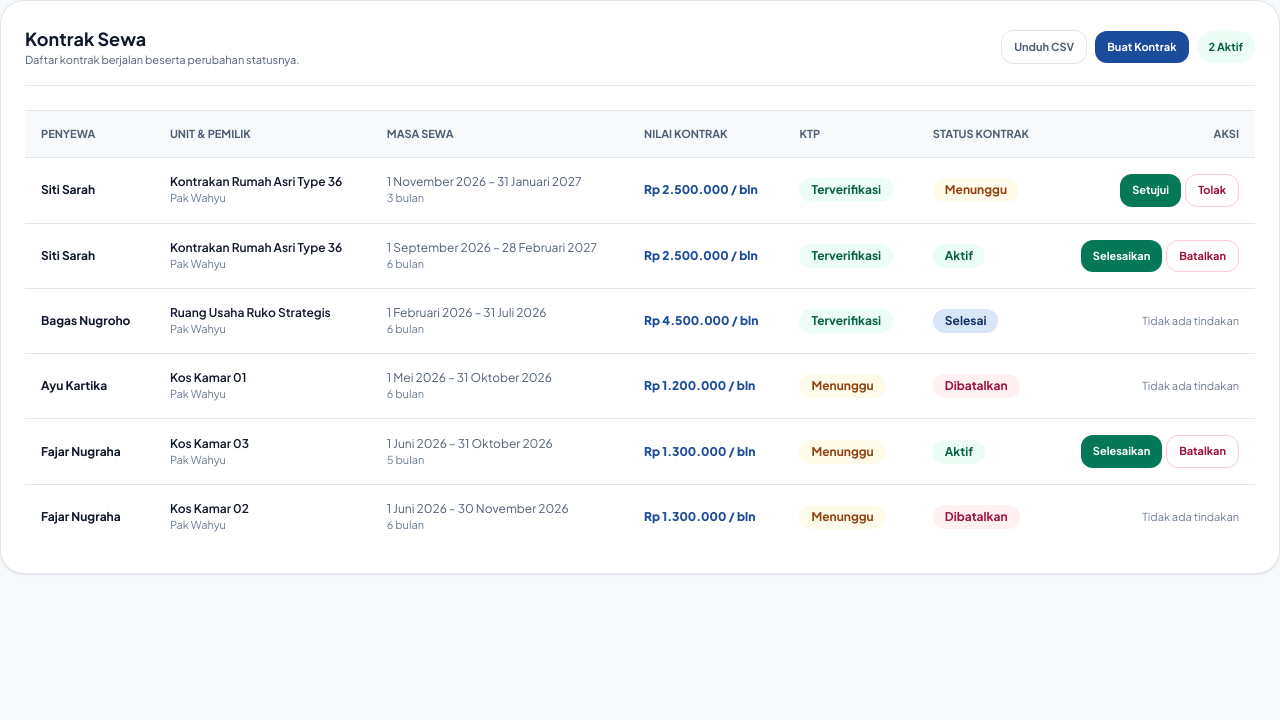
Test: OwnerContractsPage › kontrak baru tampil sebagai Menunggu
Click the button "Buat Kontrak".
click(1142, 47)  # box [1095,30,1188,63]
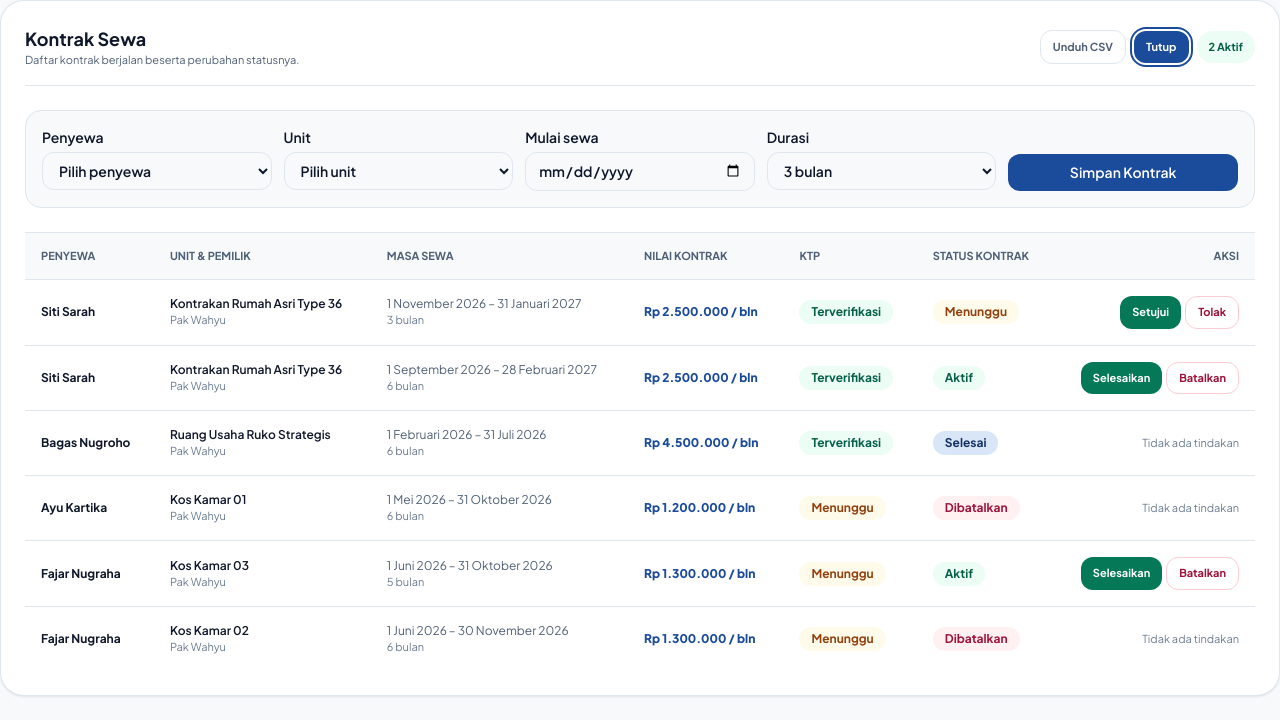
Select "Rian Pratama" in the dropdown labelled "Penyewa" at (157, 170), box [42,152,272,190]
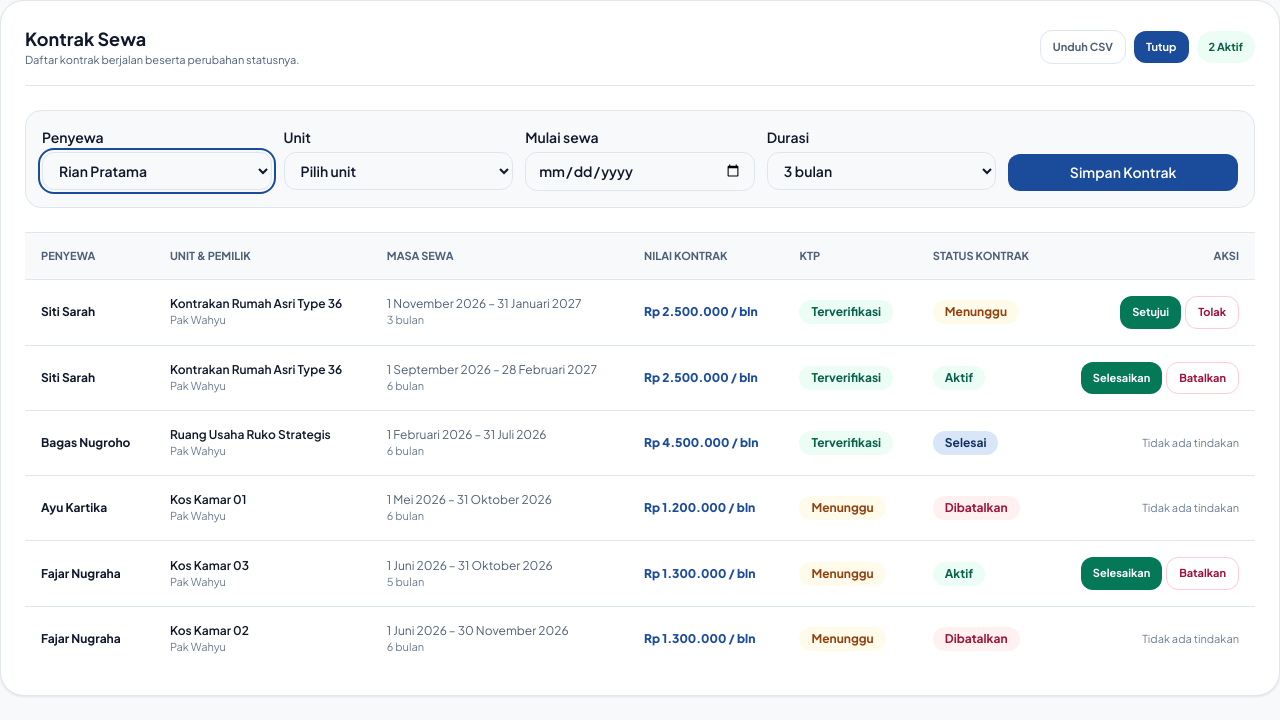
Select "Kos Kamar 01" in the dropdown labelled "Unit" at (398, 170), box [284,152,513,190]
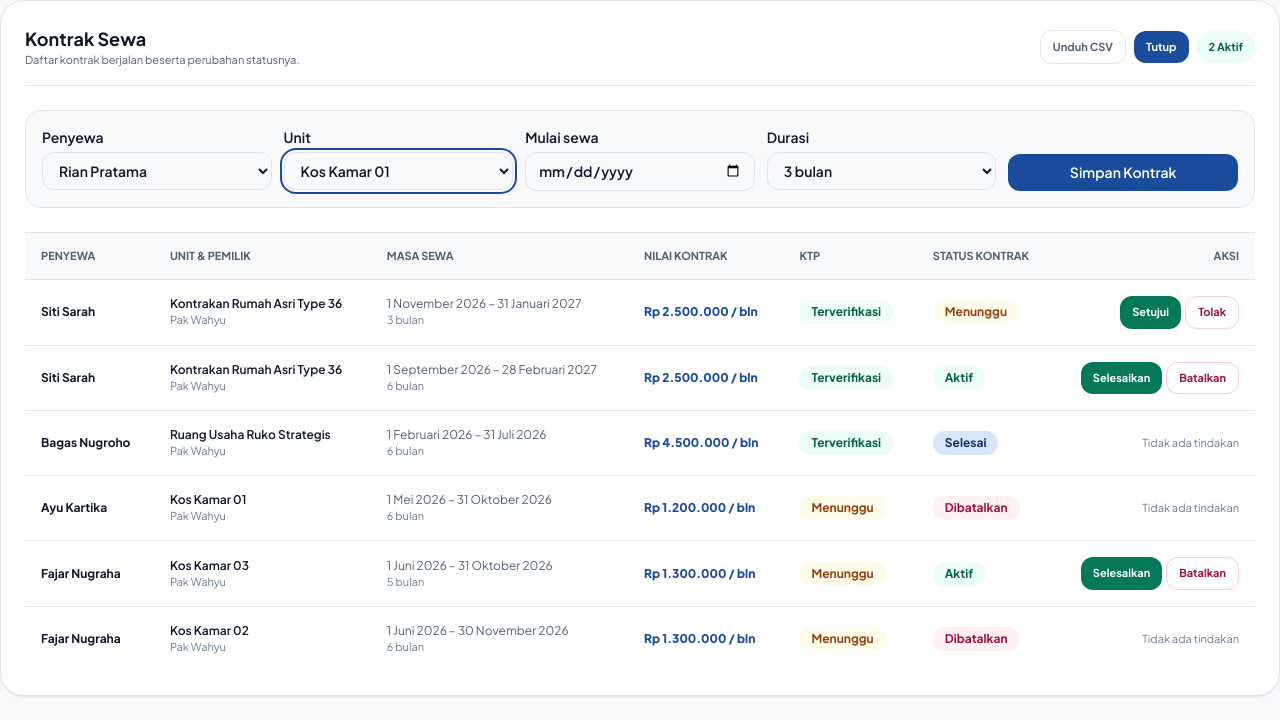
Type "2026-11-01" into the date field labelled "Mulai sewa".
click(640, 171); type("2026-11-01")  # box [525,152,755,190]
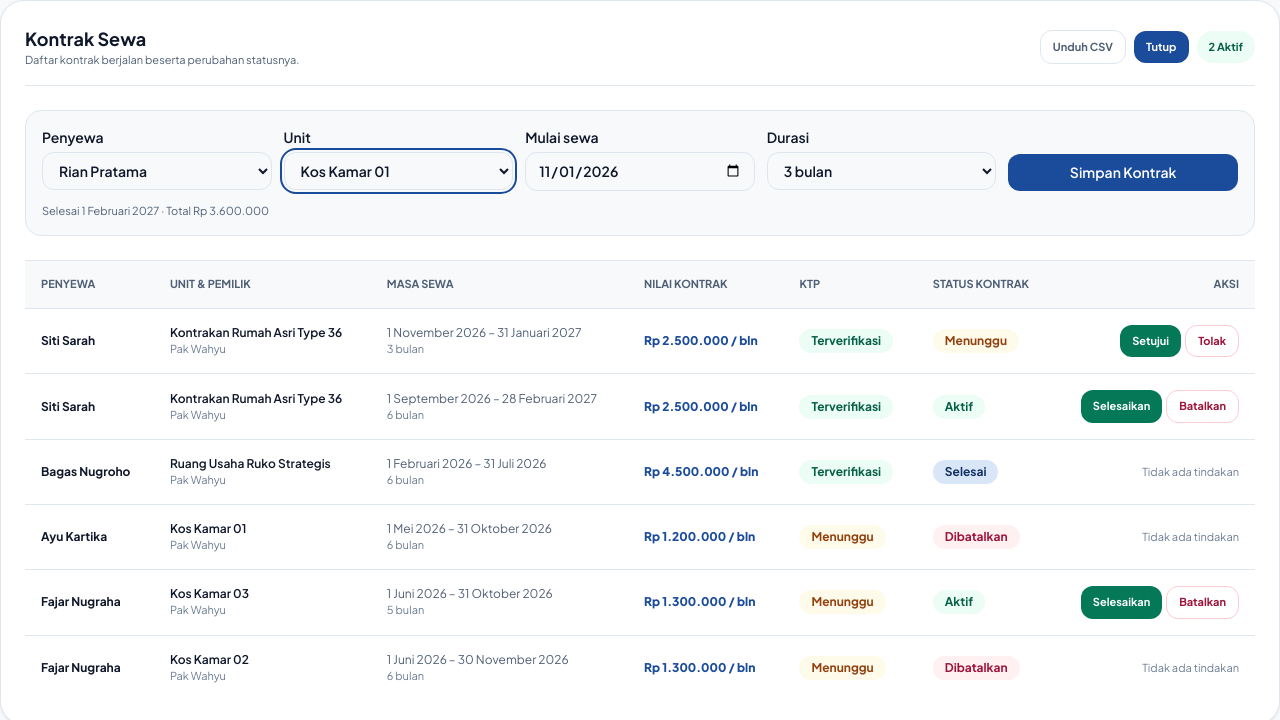
Click the button "Simpan Kontrak".
click(1123, 172)  # box [1008,154,1238,190]
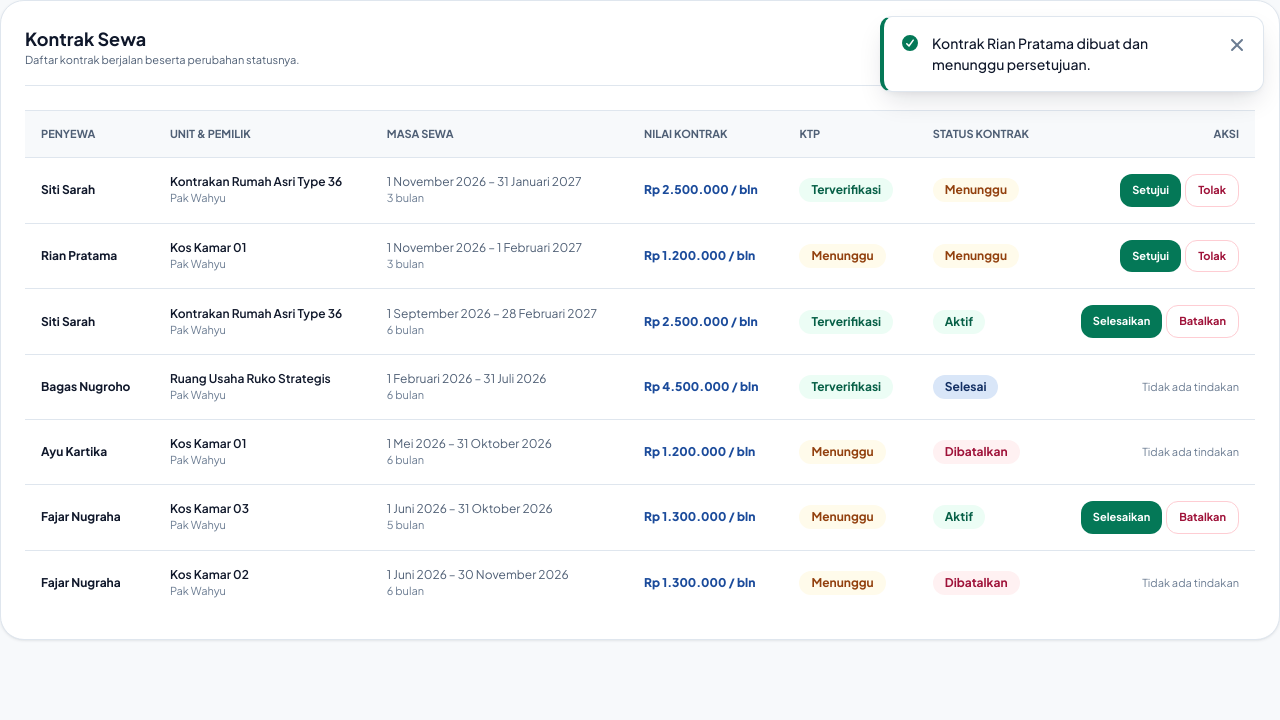
expect the 3rd cell "Menunggu" is shown: met, box [917,223,1053,289]
